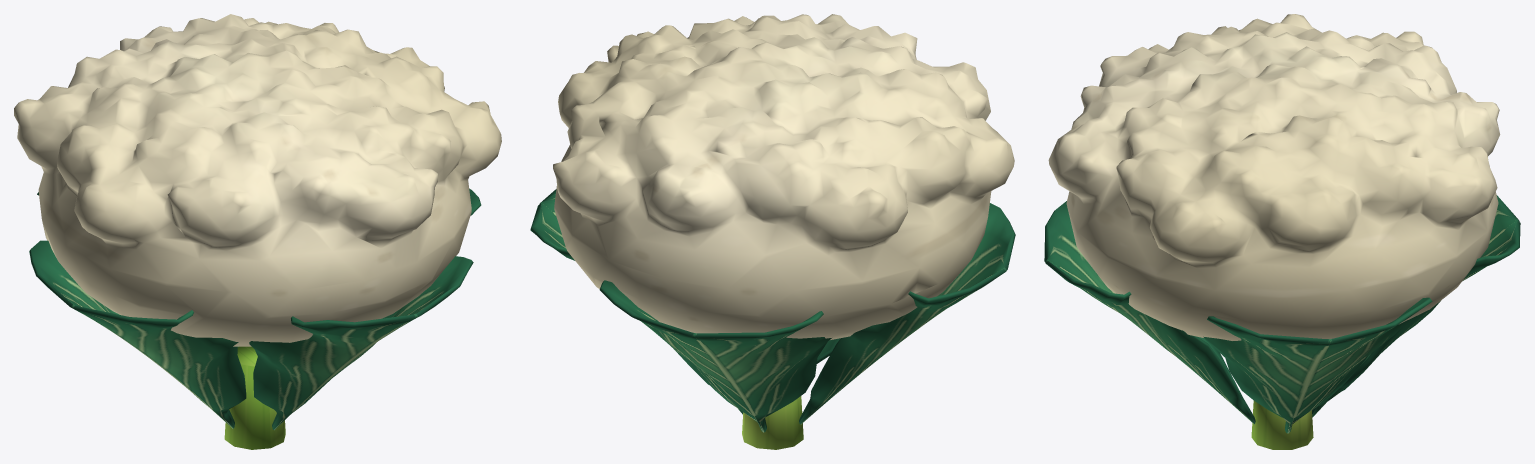
File: NP_Cauliflower_Harvest.fbx
The picture shows the model from 3 angles, left to right: view 1: azimuth 30°, elevation 25°; view 2: azimuth 150°, elevation 25°; view 3: azimuth 270°, elevation 25°; orthographic projection.
Visible parts, largest first — view 1: NP_Cauliflower_Harvest; view 2: NP_Cauliflower_Harvest; view 3: NP_Cauliflower_Harvest.
Boxes of the visible parts, x1=… form: NP_Cauliflower_Harvest: x1=14, y1=14, x2=501, y2=449; NP_Cauliflower_Harvest: x1=530, y1=14, x2=1015, y2=449; NP_Cauliflower_Harvest: x1=1044, y1=14, x2=1520, y2=449.
Bounding box in the file's own units: 50.67 × 44.05 × 50.67.
